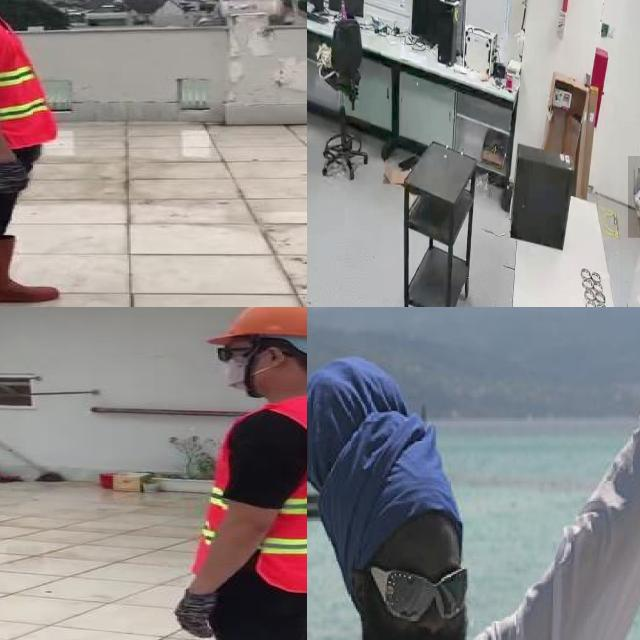boots: (0, 233, 65, 303), (0, 255, 47, 307)
face_mask: (208, 340, 285, 395)
face_nomask: (378, 564, 472, 640)
glasses: (367, 568, 470, 622)
hand_glove: (175, 587, 216, 640), (0, 159, 40, 199), (628, 156, 640, 238)
head_helmet: (201, 307, 307, 346)
head_nohelmet: (328, 460, 475, 562)
person: (307, 354, 569, 640), (154, 307, 307, 640), (0, 0, 99, 307)
vest: (190, 395, 307, 591), (0, 0, 52, 150)
